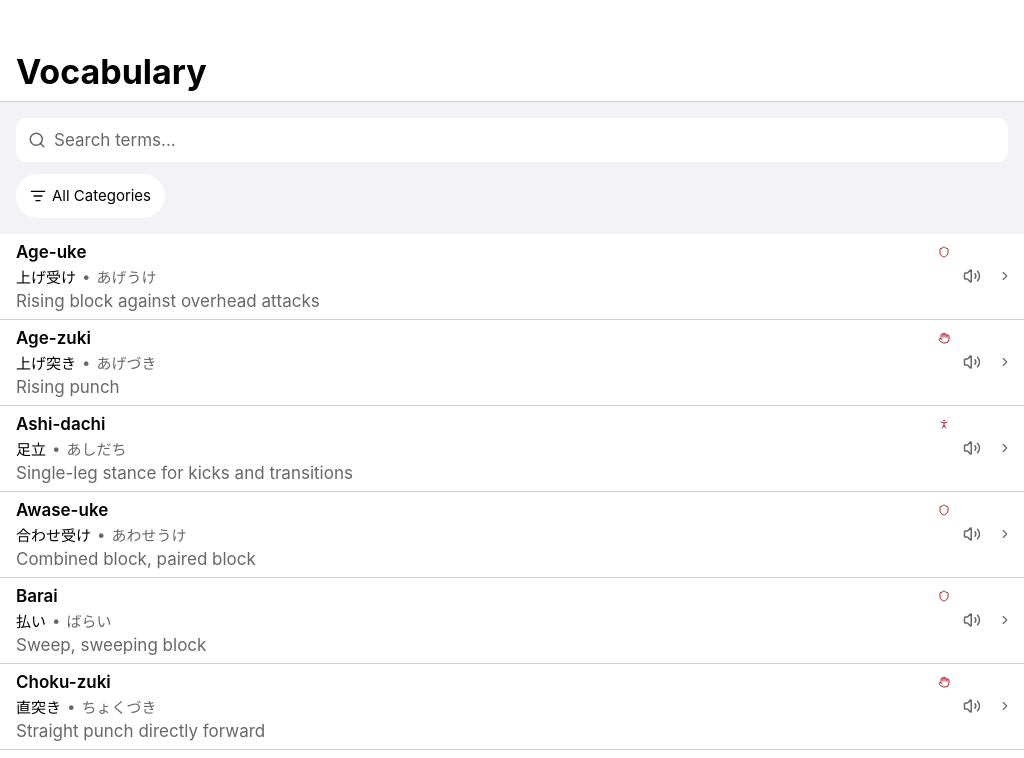
VocabularyListScreen › filters by category
Click the button "All Categories": (90, 196) top-left (16, 174), bottom-right (165, 218)
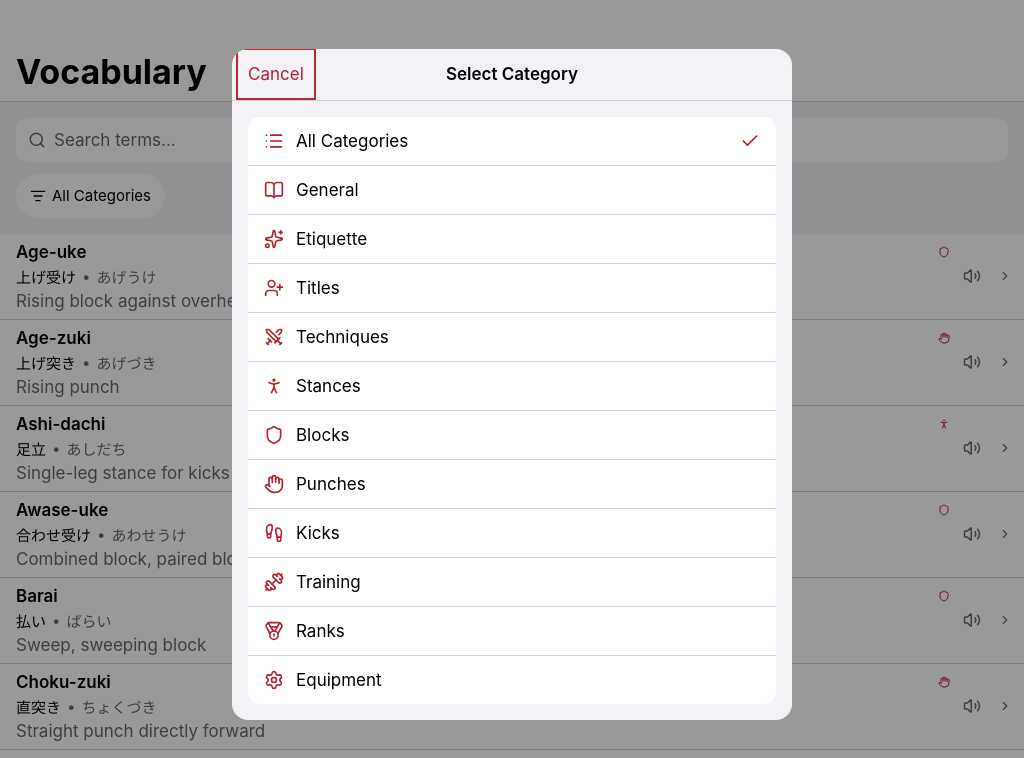
Click the button "Kicks": (318, 532) top-left (248, 508), bottom-right (776, 556)
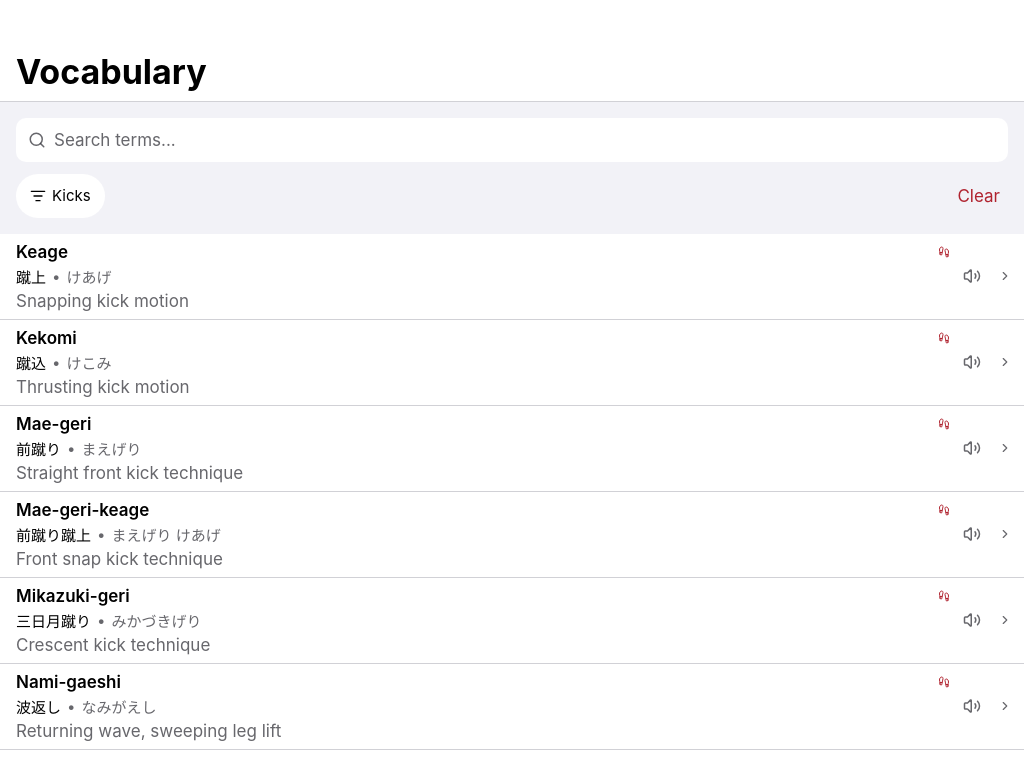
Now the button "Kicks" is shown, box top-left (16, 174), bottom-right (105, 218)
